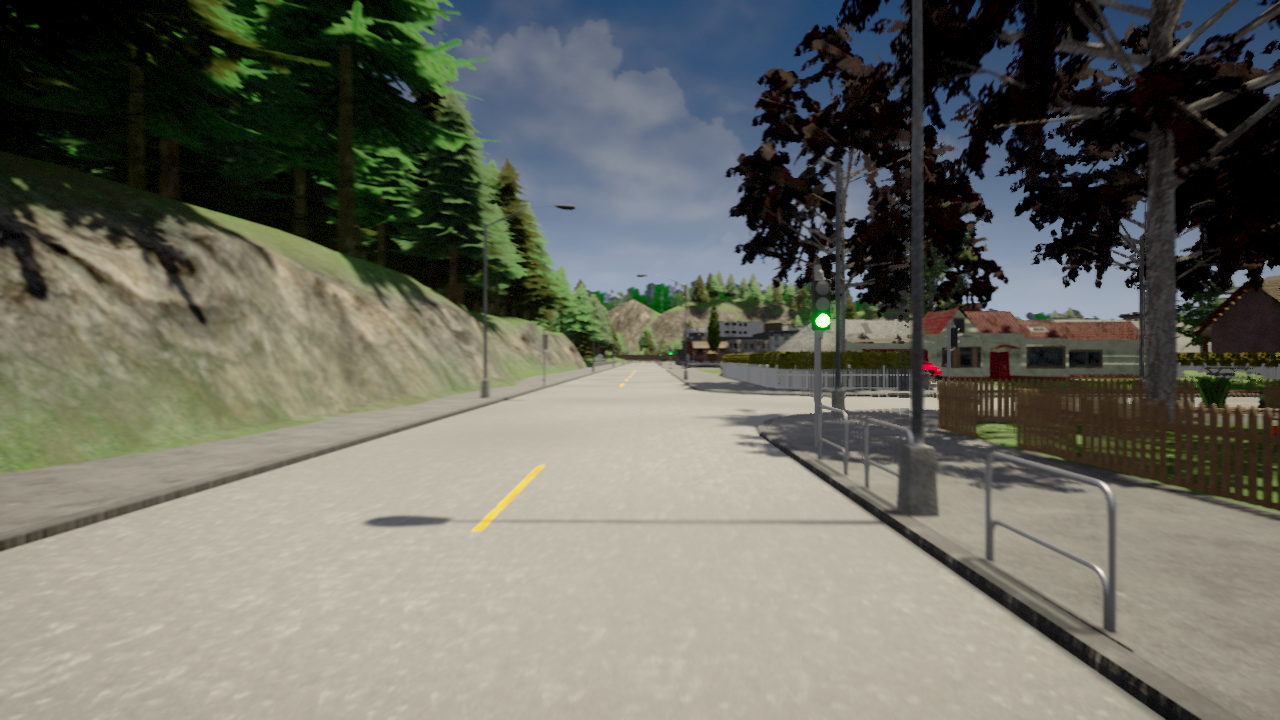green: (809, 278, 832, 330)
